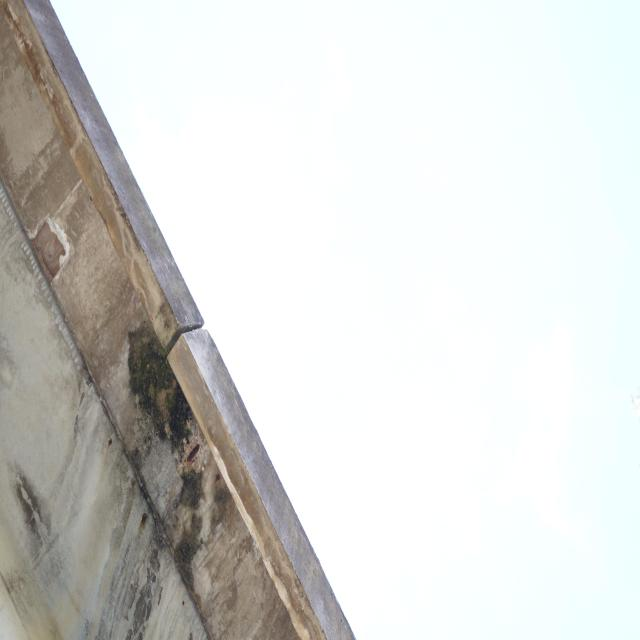Rebar: (178, 433, 204, 474)
concrete spalling: (29, 212, 71, 286)
